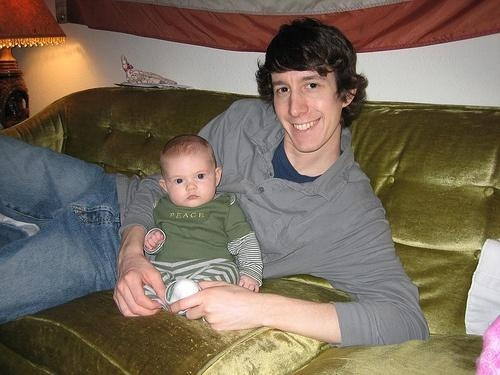face: (272, 56, 338, 150), (163, 151, 216, 209)
hand: (103, 240, 173, 326), (179, 283, 264, 336)
